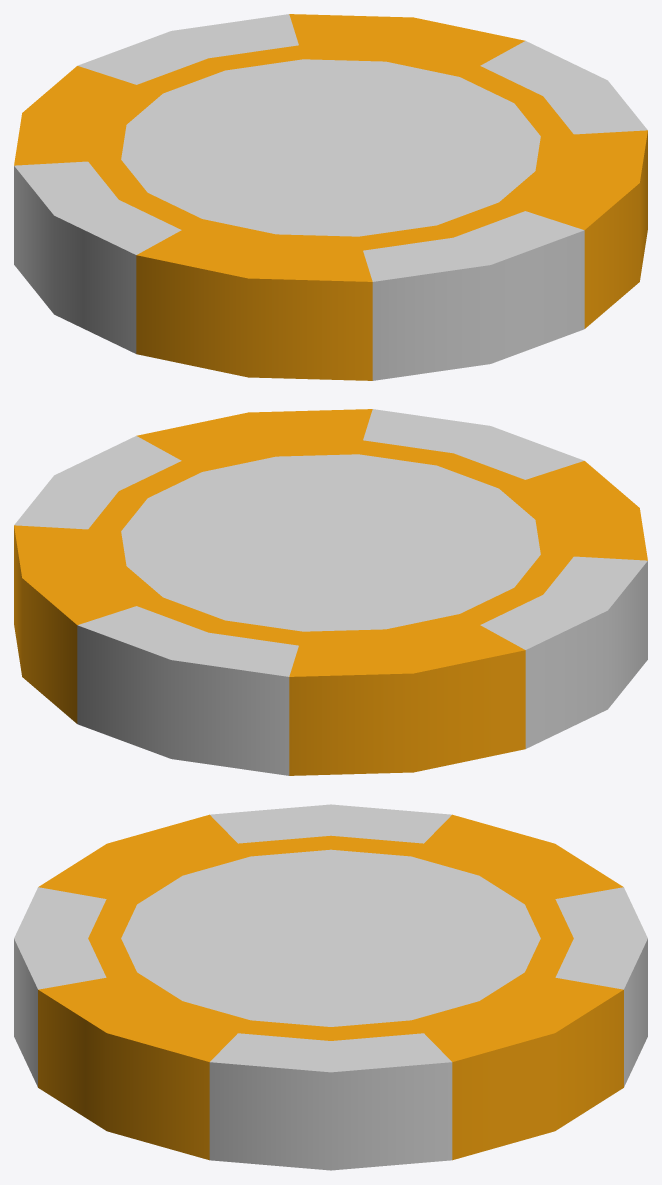
The model's file is yellow_chips.glb.
3 renders of one model, top to bottom at view 1: azimuth 30°, elevation 25°; view 2: azimuth 150°, elevation 25°; view 3: azimuth 270°, elevation 25°, orthographic.
Visible parts, largest first — view 1: Cylinder, Cylinder_Mat_0.001; view 2: Cylinder, Cylinder_Mat_0.001; view 3: Cylinder, Cylinder_Mat_0.001.
Boxes of the visible parts, x1=… form: Cylinder: x1=14, y1=14, x2=647, y2=380; Cylinder_Mat_0.001: x1=14, y1=14, x2=647, y2=380; Cylinder: x1=14, y1=409, x2=647, y2=775; Cylinder_Mat_0.001: x1=14, y1=409, x2=647, y2=775; Cylinder: x1=14, y1=804, x2=647, y2=1170; Cylinder_Mat_0.001: x1=38, y1=814, x2=623, y2=1160.
Size of the model in its own units: 100 by 17.08 by 100.
